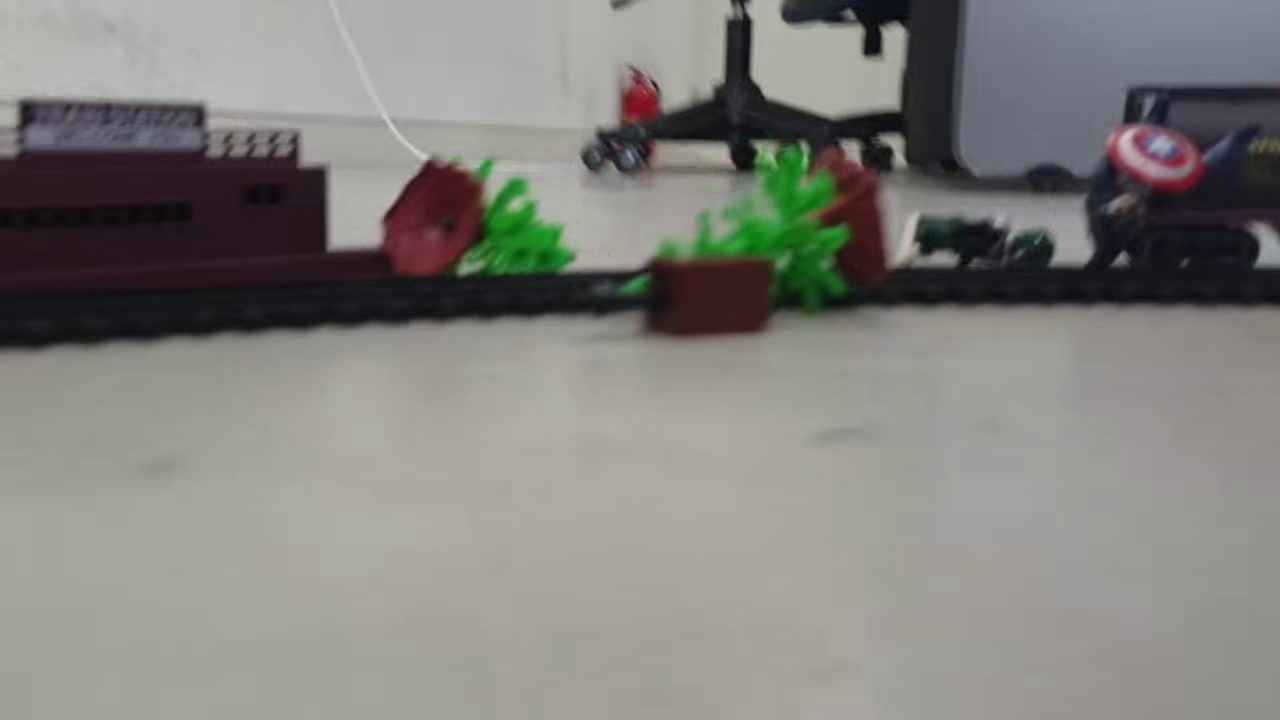box: (646, 253, 776, 337)
people: (1087, 93, 1262, 273), (891, 212, 1056, 274)
tree: (611, 141, 888, 315), (378, 156, 580, 281)
